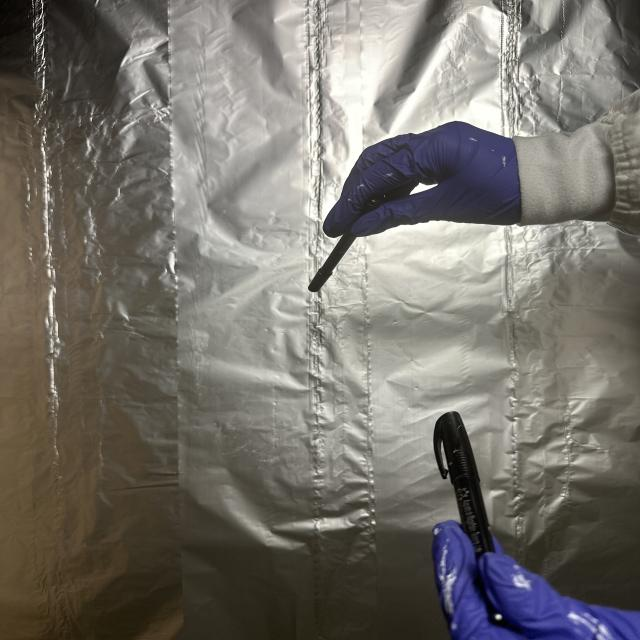gloves_contaminated: (433, 521, 640, 640), (323, 122, 521, 237)
